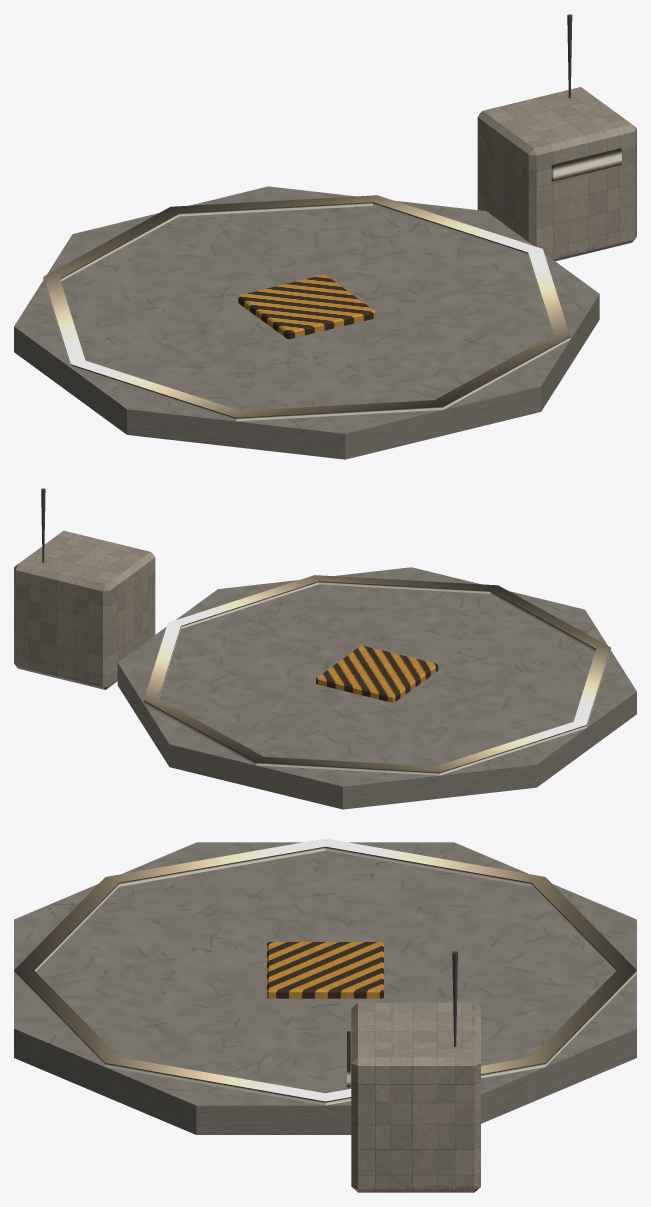
Rendered from landing_pad.obj.
The picture shows the model from 3 angles, top to bottom: view 1: azimuth 30°, elevation 25°; view 2: azimuth 150°, elevation 25°; view 3: azimuth 270°, elevation 25°; orthographic projection. The views are drawn at different scales.
Parts seen in each view (by area): view 1: landing_pad; view 2: landing_pad; view 3: landing_pad.
Part boxes in pixels (x1,y1,x2,y2): landing_pad: (14, 14, 636, 459); landing_pad: (14, 488, 636, 809); landing_pad: (14, 838, 636, 1192).
Bounding box in the file's own units: 11.8 × 3.9 × 9.61.
Materials: 1 (1 with a texture image).
